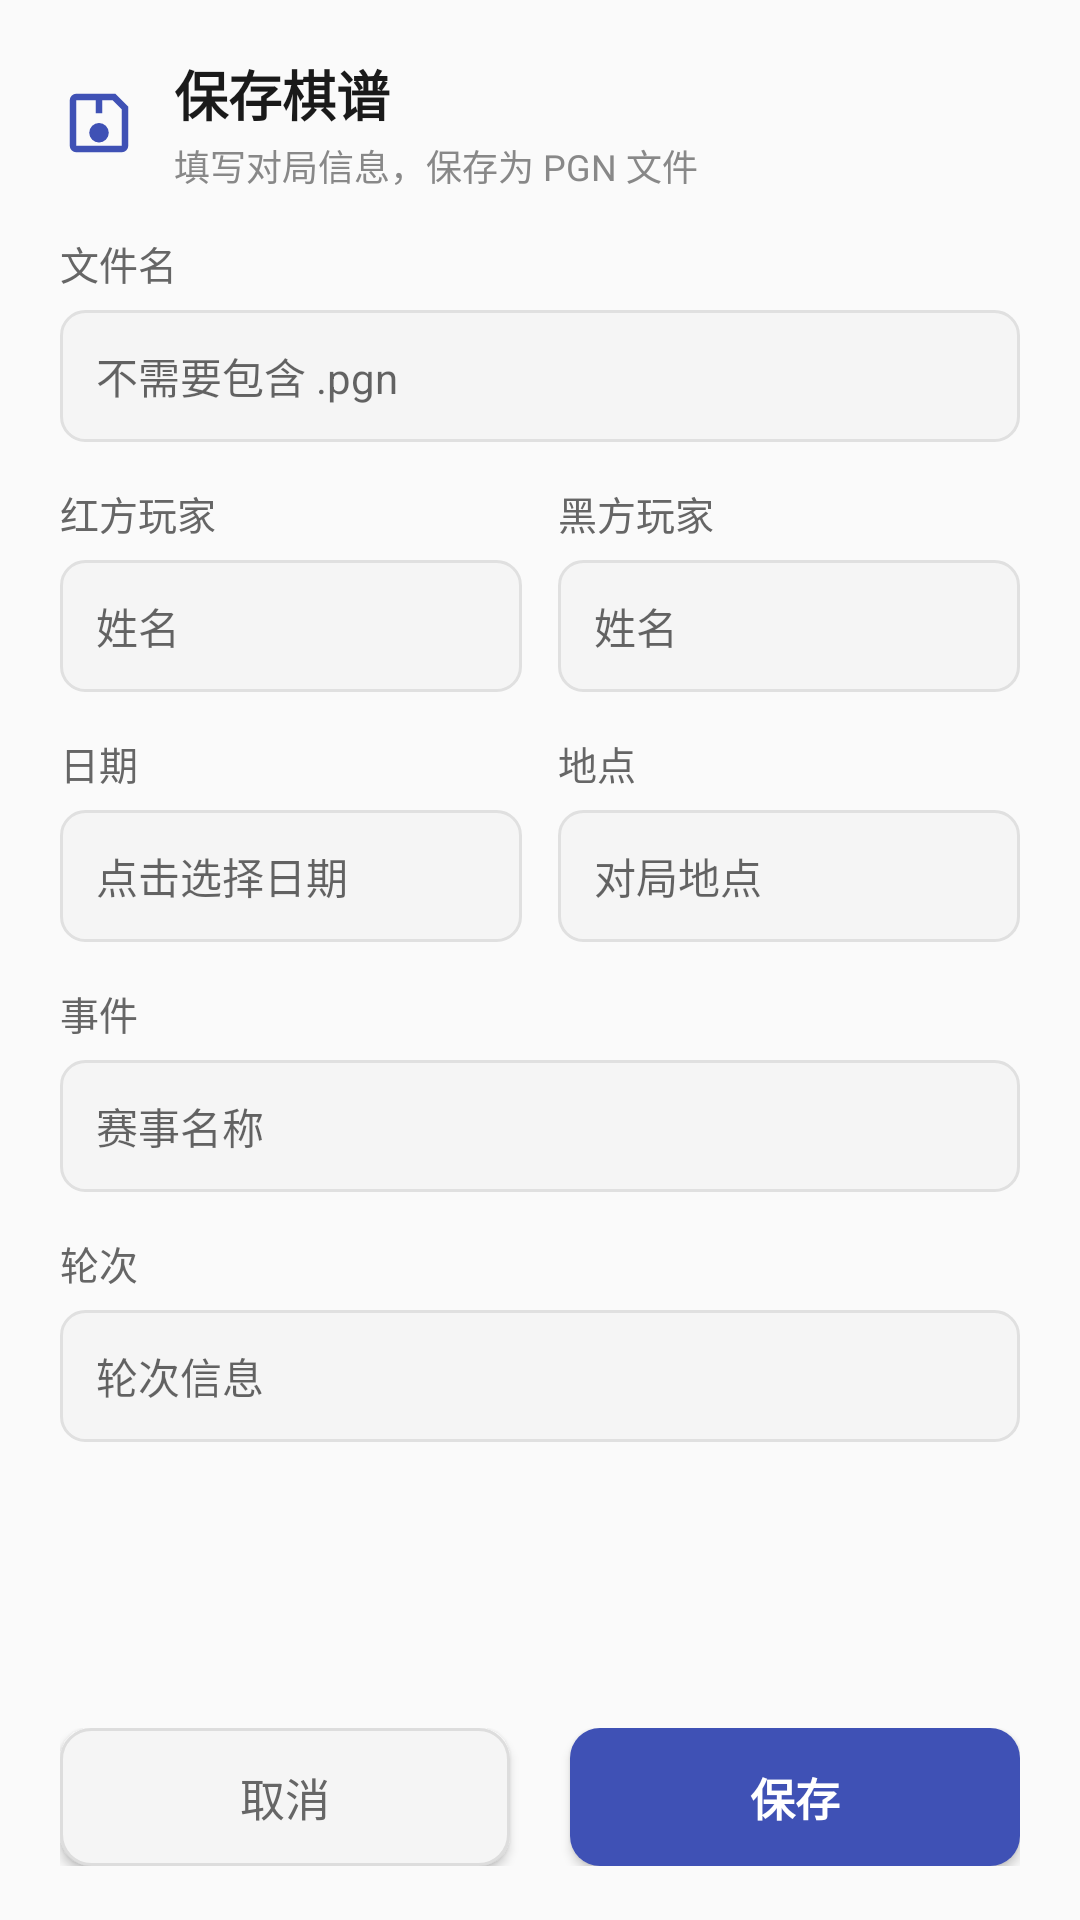

Named icons in this screenshot (1080x1920) and their bounding boxes, region(x1, y1, x2, y2):
save: region(69, 93, 129, 153)
